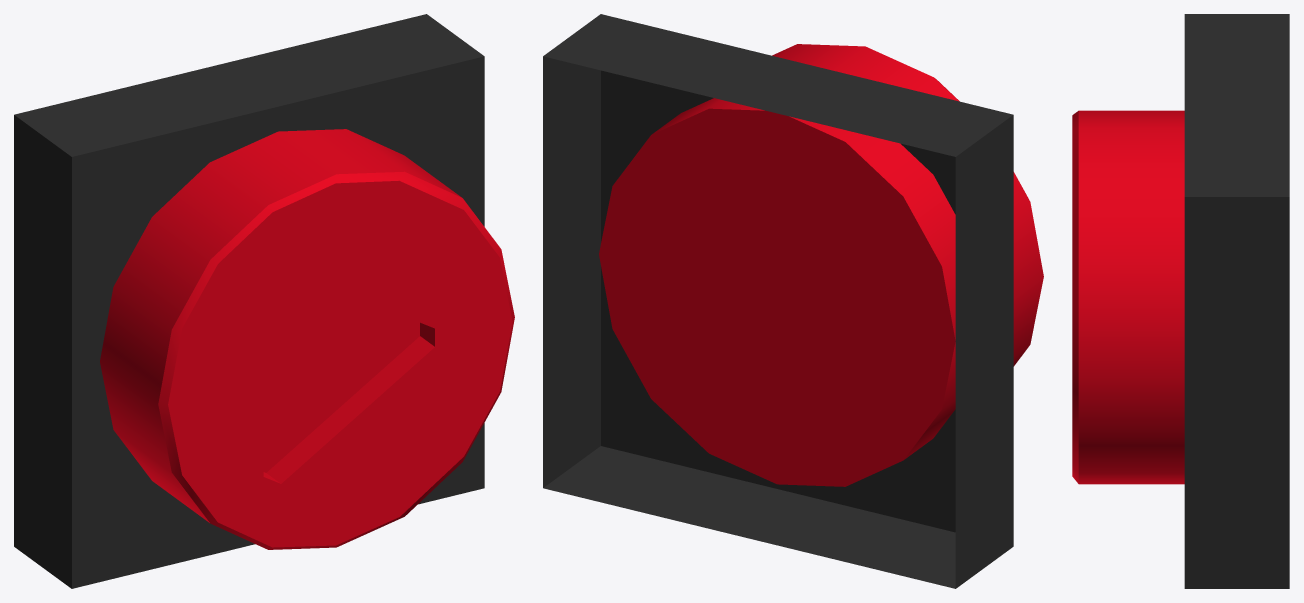
Rendered from button.fbx.
3 renders of one model, left to right at view 1: azimuth 30°, elevation 25°; view 2: azimuth 150°, elevation 25°; view 3: azimuth 270°, elevation 25°, orthographic. The views are drawn at different scales.
Visible parts, largest first — view 1: button.001, Cube.054; view 2: button.001, Cube.054; view 3: Cube.054, button.001.
Part boxes in pixels (left/top/right/bottom): button.001: left=100, top=129, right=514, bottom=549; Cube.054: left=14, top=14, right=484, bottom=588; button.001: left=599, top=44, right=1043, bottom=486; Cube.054: left=543, top=14, right=1013, bottom=588; Cube.054: left=1184, top=14, right=1289, bottom=588; button.001: left=1072, top=110, right=1184, bottom=484.
Bounding box in the file's own units: 0.9076 × 0.9076 × 0.4559.
